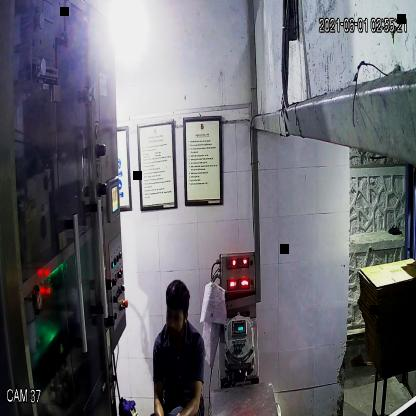no_goggles: (164, 307, 187, 325)
